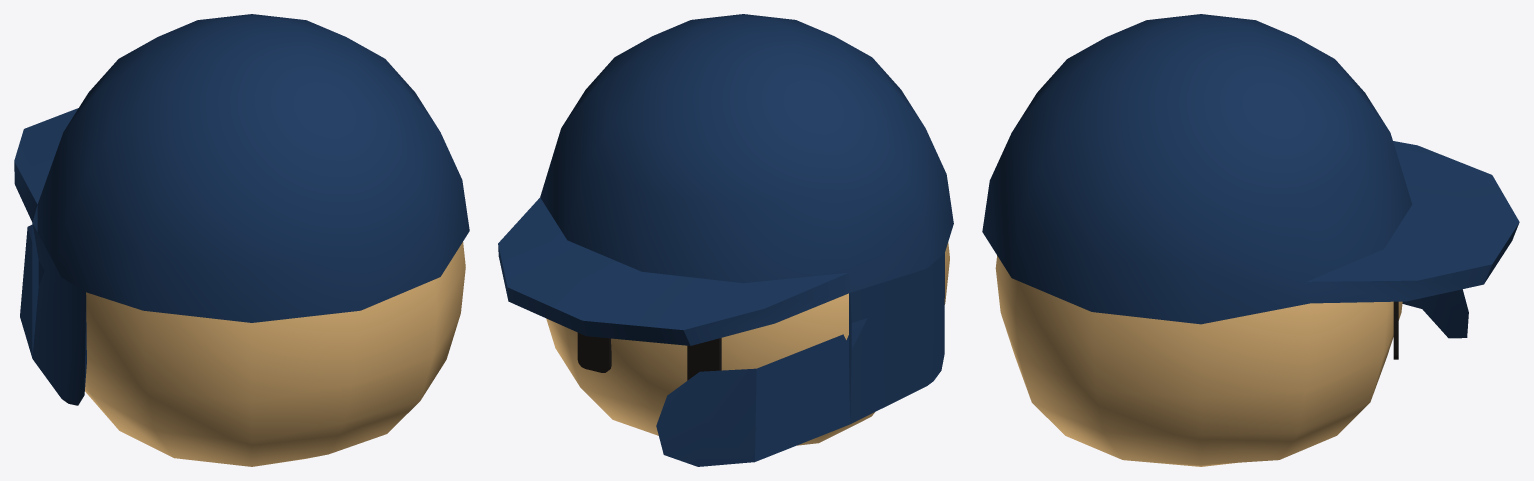
Rendered from head.glb.
3 renders of one model, left to right at view 1: azimuth 30°, elevation 25°; view 2: azimuth 150°, elevation 25°; view 3: azimuth 270°, elevation 25°, orthographic. The views are drawn at different scales.
Visible parts, largest first — view 1: head; view 2: head; view 3: head.
Boxes of the visible parts, bbox=[...] form: head: bbox=[14, 14, 469, 466]; head: bbox=[498, 14, 953, 466]; head: bbox=[982, 14, 1519, 466].
Bounding box in the file's own units: 0.4922 × 0.4991 × 0.6018.
